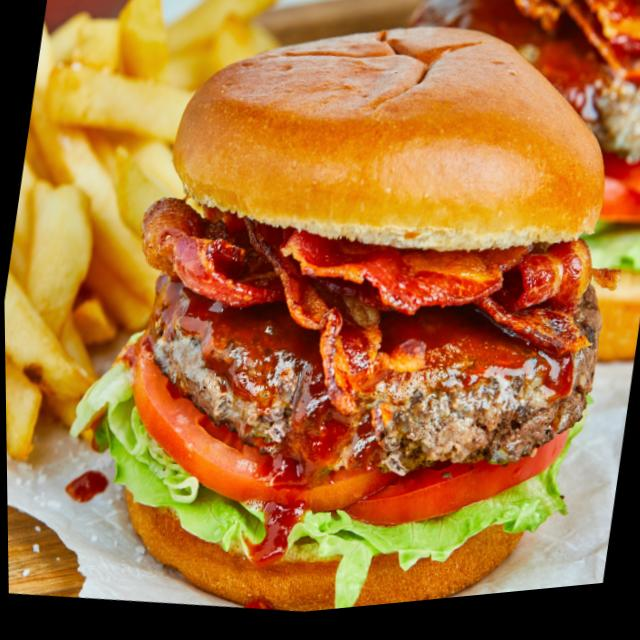burger: (74, 0, 640, 634)
